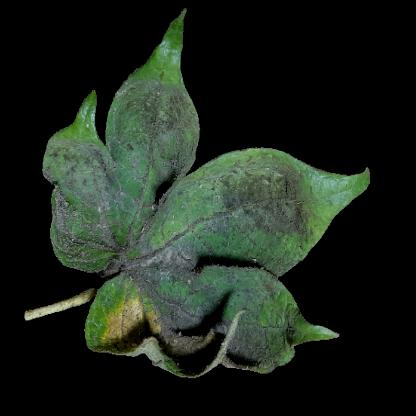curl_stage1: (99, 300, 155, 357)
sooty: (214, 174, 297, 258), (104, 211, 176, 292), (125, 91, 181, 173)
